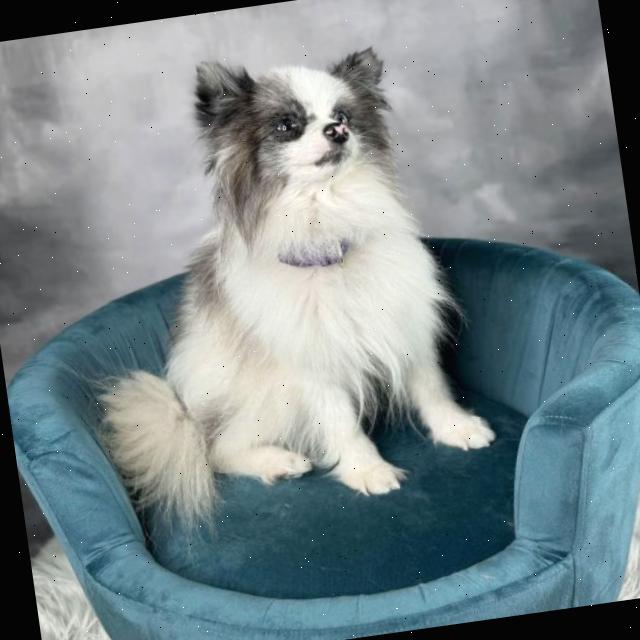pomeranian_dog: (160, 13, 418, 265)
